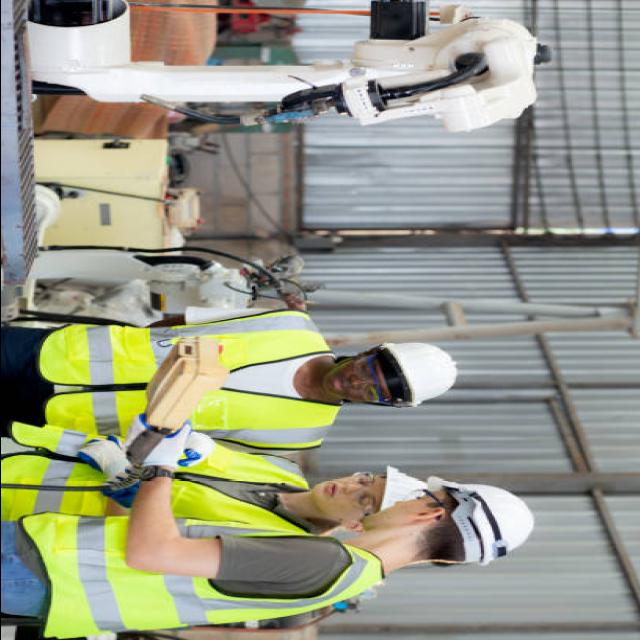Robotic-arm: (0, 0, 559, 135)
